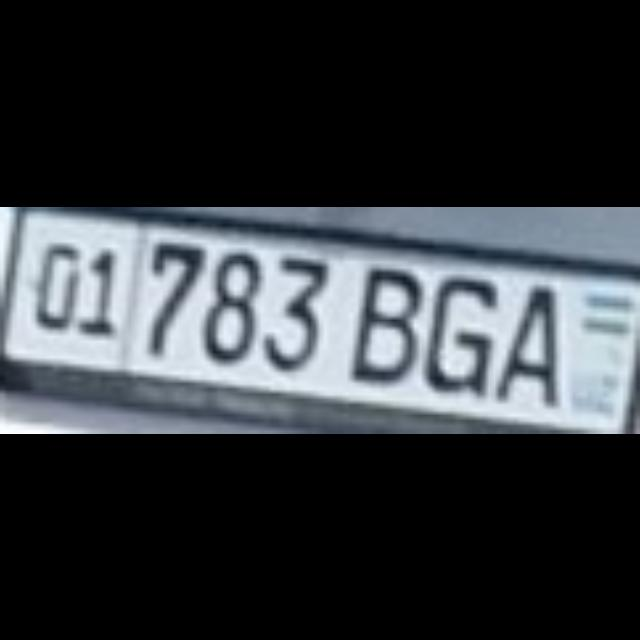0: (32, 238, 74, 322)
1: (75, 243, 112, 333)
3: (260, 248, 322, 364)
7: (143, 238, 201, 348)
8: (196, 243, 254, 354)
A: (492, 280, 556, 402)
B: (343, 259, 412, 375)
G: (423, 269, 492, 391)
